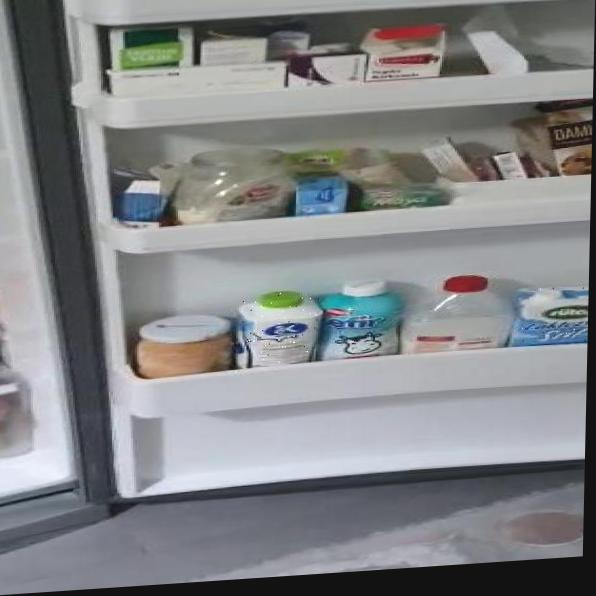milk: (240, 290, 320, 366), (522, 285, 589, 344)
